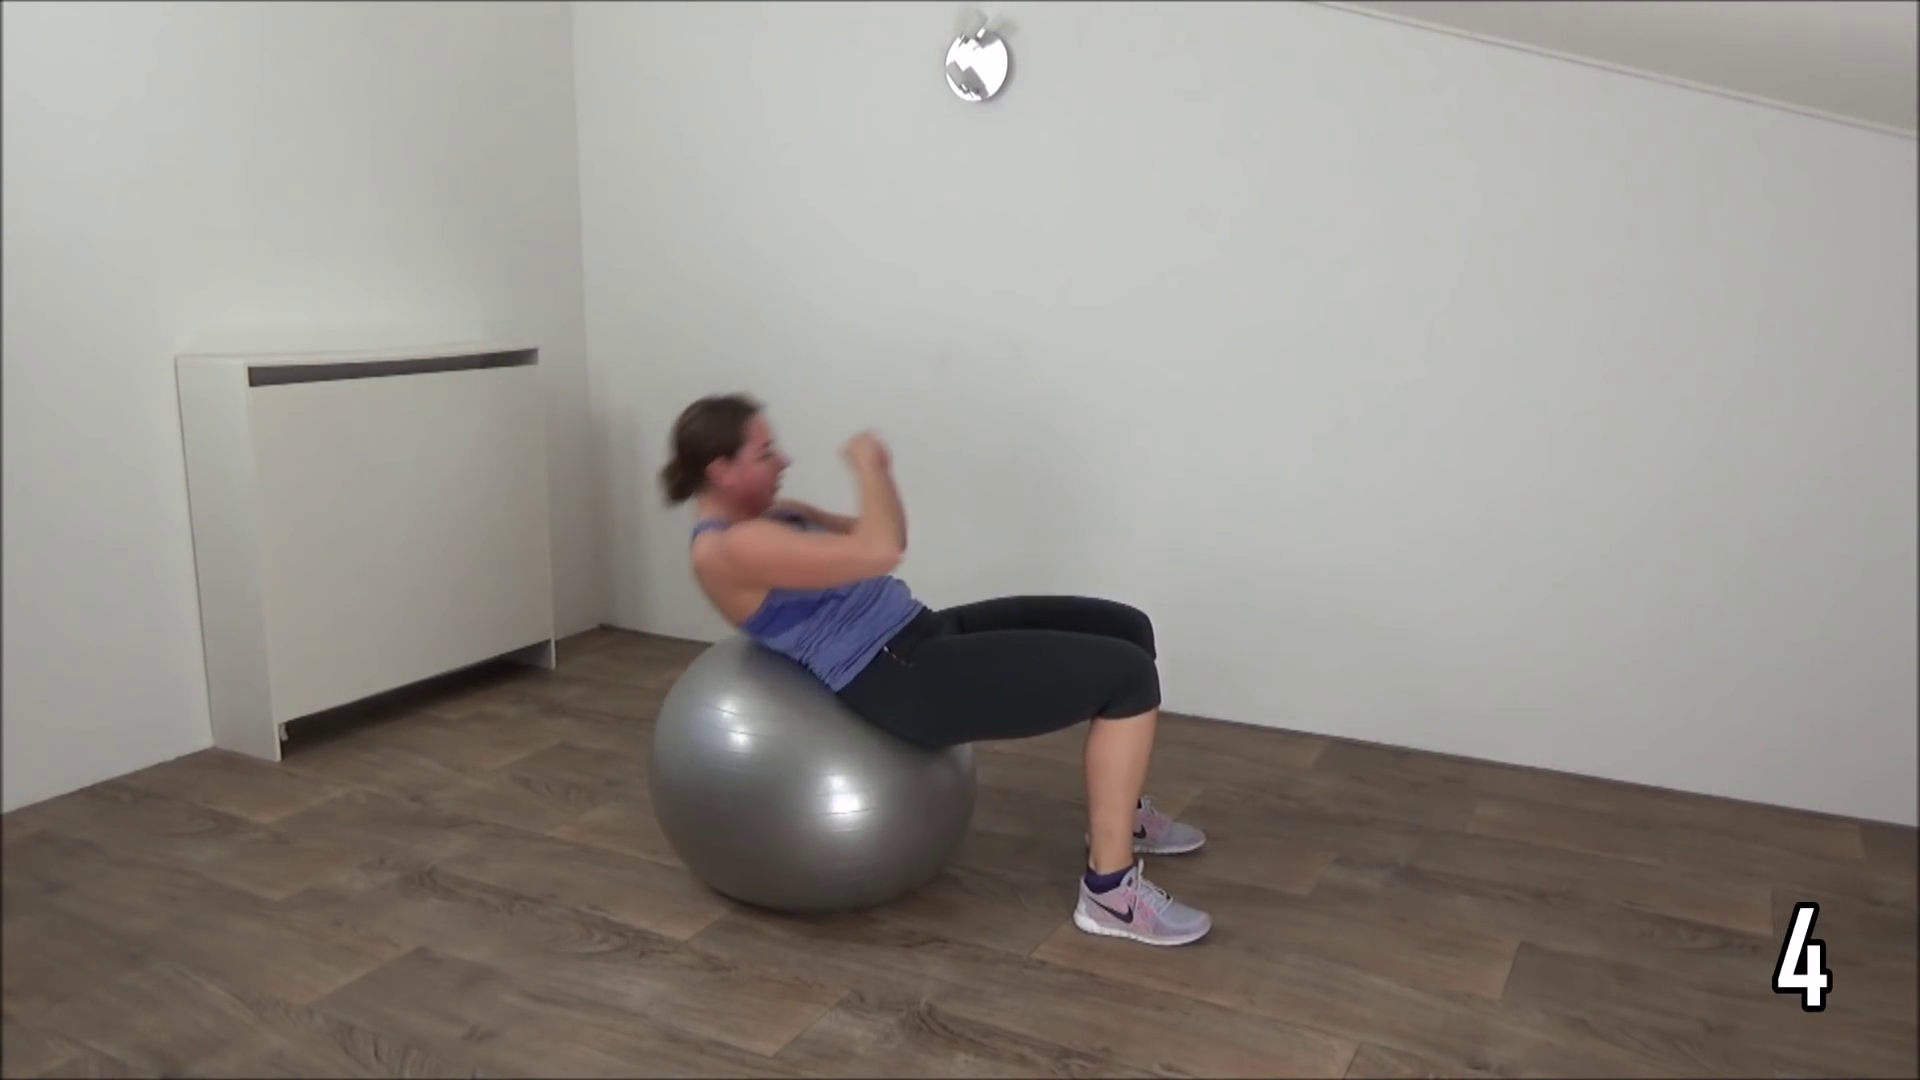yogaball: (638, 638, 989, 922)
